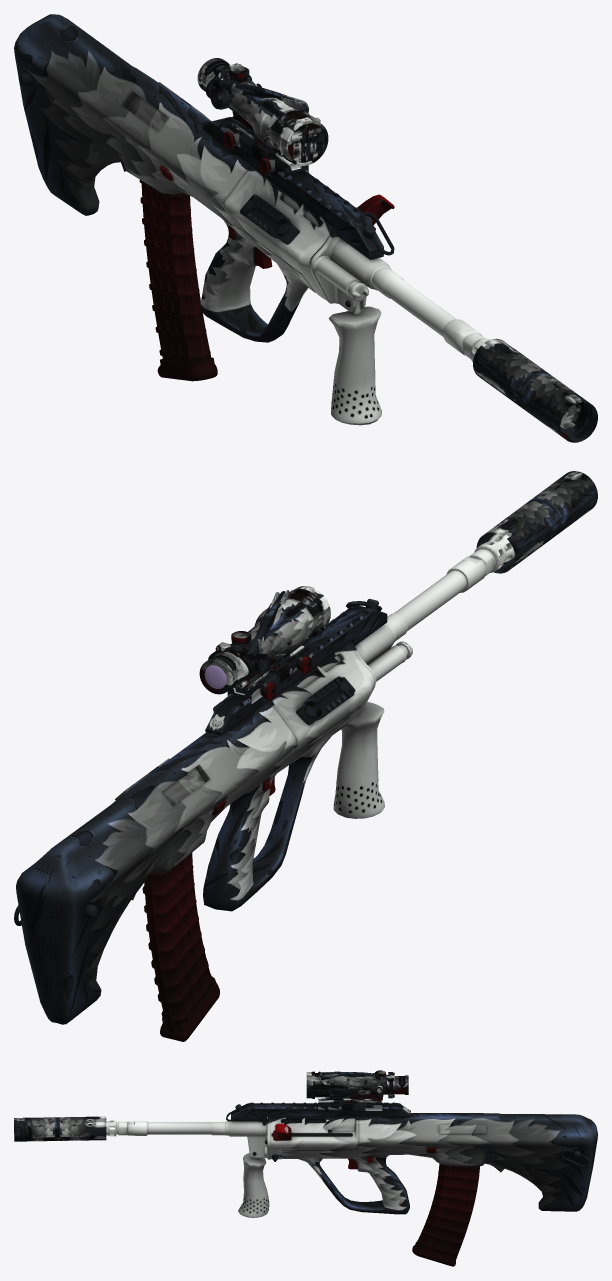
Rendered from Aug_eaglecommando.glb.
The picture shows the model from 3 angles, top to bottom: view 1: azimuth 30°, elevation 25°; view 2: azimuth 150°, elevation 25°; view 3: azimuth 270°, elevation 25°; orthographic projection. The views are drawn at different scales.
Parts seen in each view (by area): view 1: v_rif_aug_aug_model, Cylinder.001; view 2: v_rif_aug_aug_model, Cylinder.001; view 3: v_rif_aug_aug_model, Cylinder.001.
Part boxes in pixels (<box>): v_rif_aug_aug_model: <box>14,14,489,425</box>; Cylinder.001: <box>473,338,597,442</box>; v_rif_aug_aug_model: <box>14,533,514,1041</box>; Cylinder.001: <box>476,471,597,573</box>; v_rif_aug_aug_model: <box>106,1070,597,1266</box>; Cylinder.001: <box>14,1116,106,1141</box>.
Size of the model in its own units: 3.8 by 13.05 by 35.65.
Materials: 6 (4 with a texture image).
